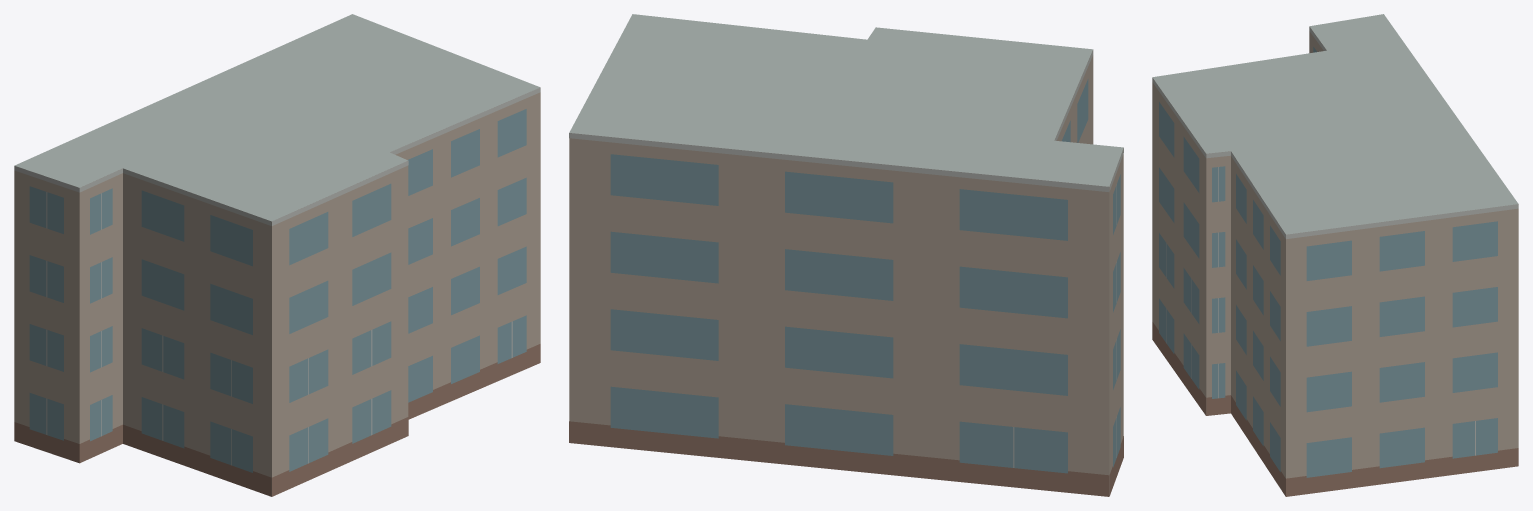
File: survey-upis-32773698.glb
The picture shows the model from 3 angles, left to right: view 1: azimuth 30°, elevation 25°; view 2: azimuth 150°, elevation 25°; view 3: azimuth 270°, elevation 25°; orthographic projection. The views are drawn at different scales.
Parts seen in each view (by area): view 1: survey-upis-32773698.tmp; view 2: survey-upis-32773698.tmp; view 3: survey-upis-32773698.tmp.
Boxes of the visible parts, x1,y1,x2,y2 form: survey-upis-32773698.tmp: (14, 14, 540, 496); survey-upis-32773698.tmp: (569, 14, 1123, 496); survey-upis-32773698.tmp: (1152, 14, 1518, 496).
Bounding box in the file's own units: 25.46 × 14.1 × 17.87.
